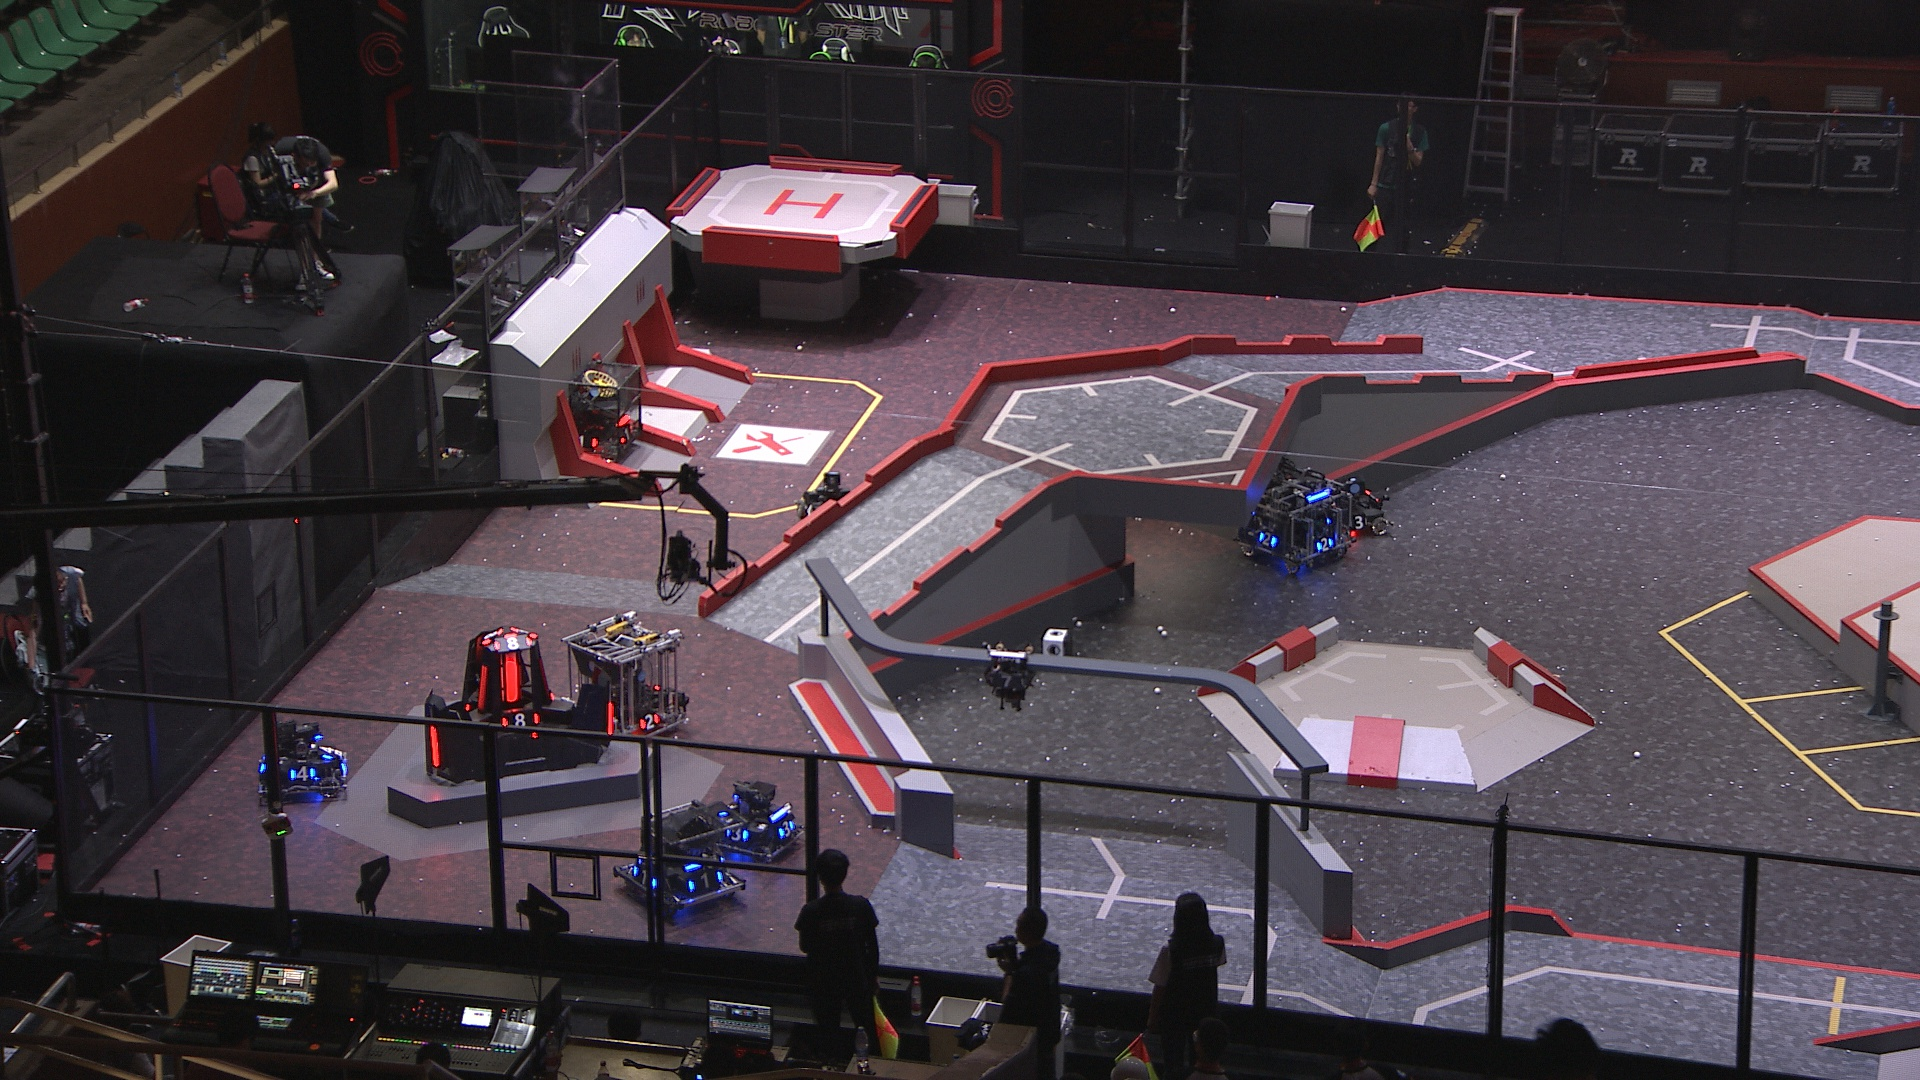armor: (498, 655, 520, 702), (684, 872, 727, 891), (501, 711, 541, 731), (632, 864, 659, 891), (476, 665, 489, 712), (287, 764, 319, 783), (429, 725, 443, 767), (491, 636, 531, 650), (723, 823, 750, 843), (988, 674, 1025, 688), (605, 698, 617, 737), (315, 741, 338, 761), (774, 820, 795, 840), (637, 712, 659, 731), (575, 436, 600, 451), (1346, 514, 1367, 531), (1313, 535, 1333, 553), (1257, 531, 1276, 547), (481, 628, 496, 646), (618, 427, 633, 443), (803, 502, 816, 517)
base: (419, 624, 618, 785)
car: (562, 608, 688, 740), (612, 798, 742, 916), (1234, 455, 1354, 570), (545, 361, 647, 465), (704, 781, 807, 865), (252, 717, 352, 802), (793, 469, 862, 535), (1325, 476, 1391, 538)
watcher: (982, 644, 1038, 713)
